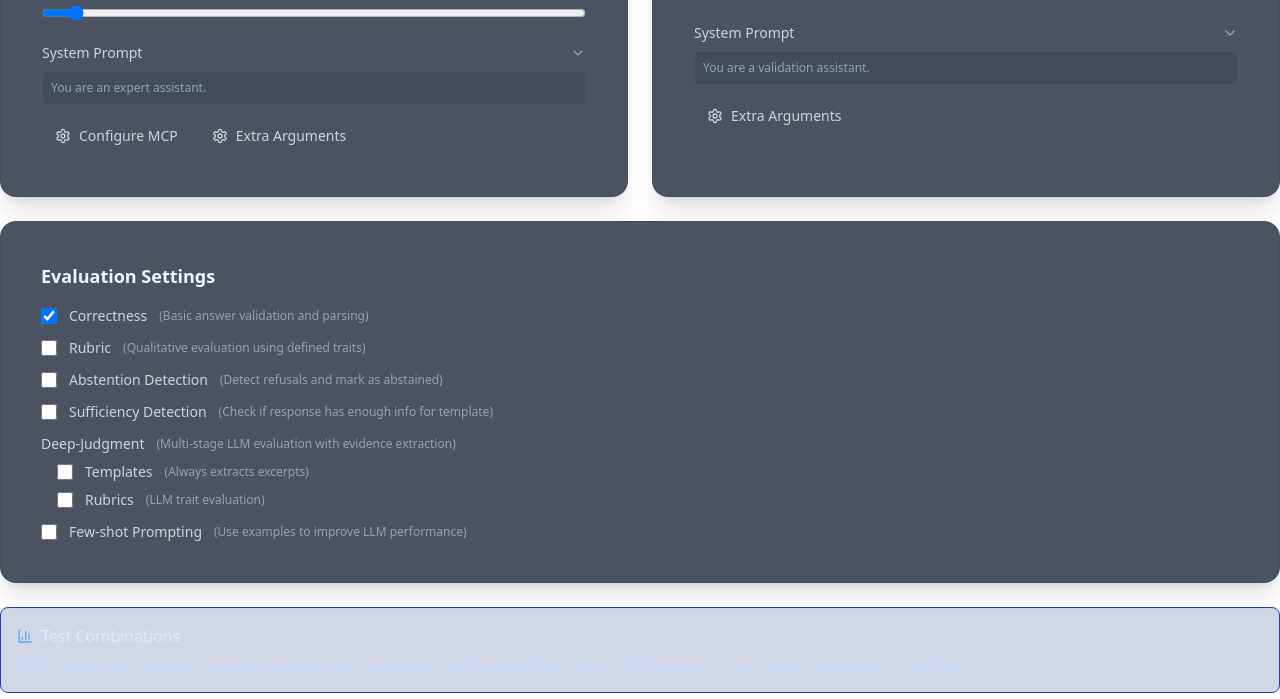
Test: Benchmark Configuration Integration Tests › integ-047: Evaluation mode configuration › should disable rubric and hide evaluation mode options
(page scrolled)
expect the heading "Evaluation Settings" is shown: met, box [41,264,215,288]
Click the checkbox labelled "Rubric (Qualitative evaluation using defined traits)": (49, 348) [41,340,57,356]
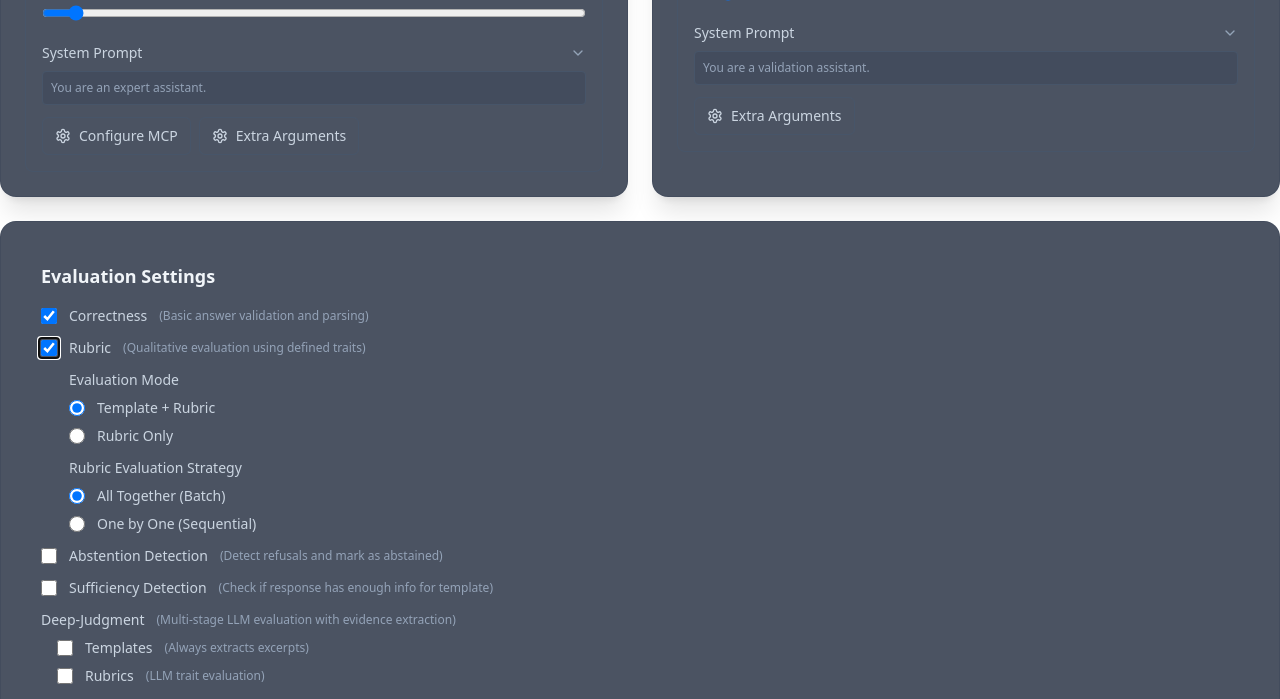
expect the radio button labelled "Template + Rubric" is shown: met, box [69,400,85,416]
Click the checkbox labelled "Rubric (Qualitative evaluation using defined traits)": (49, 348) [41,340,57,356]
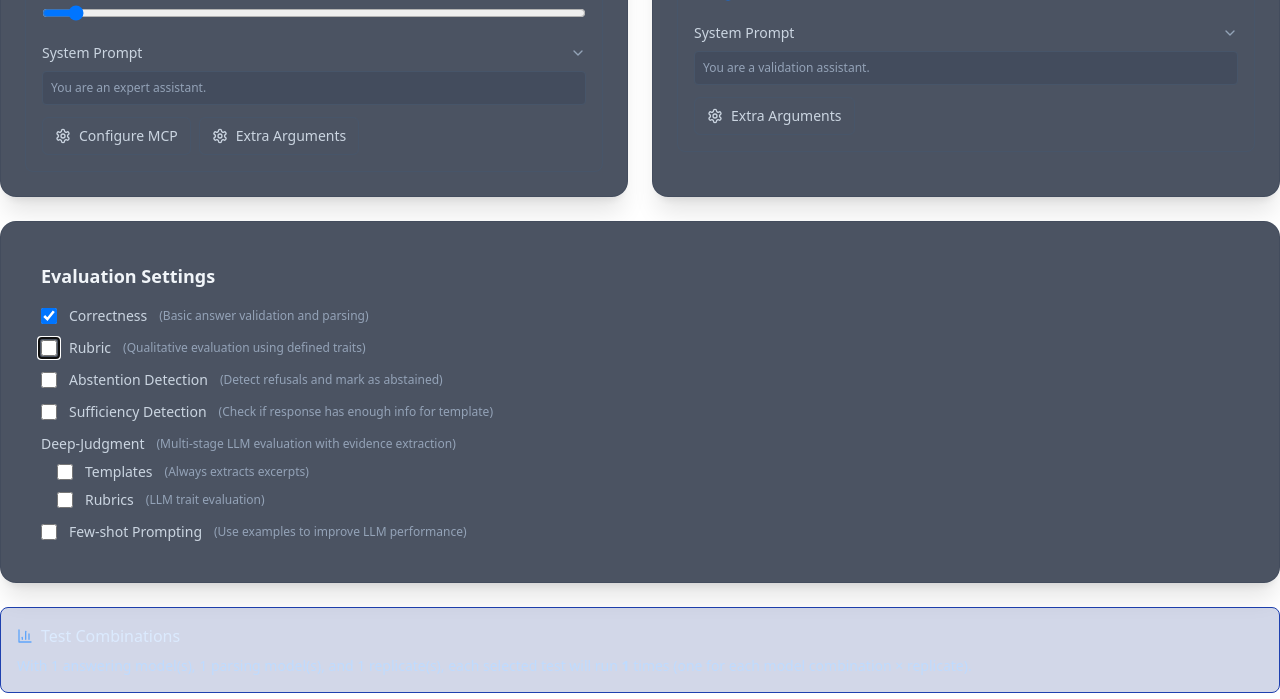
expect the text labelled "Template + Rubric" is gone: met
expect the text labelled "Rubric Only" is gone: met
